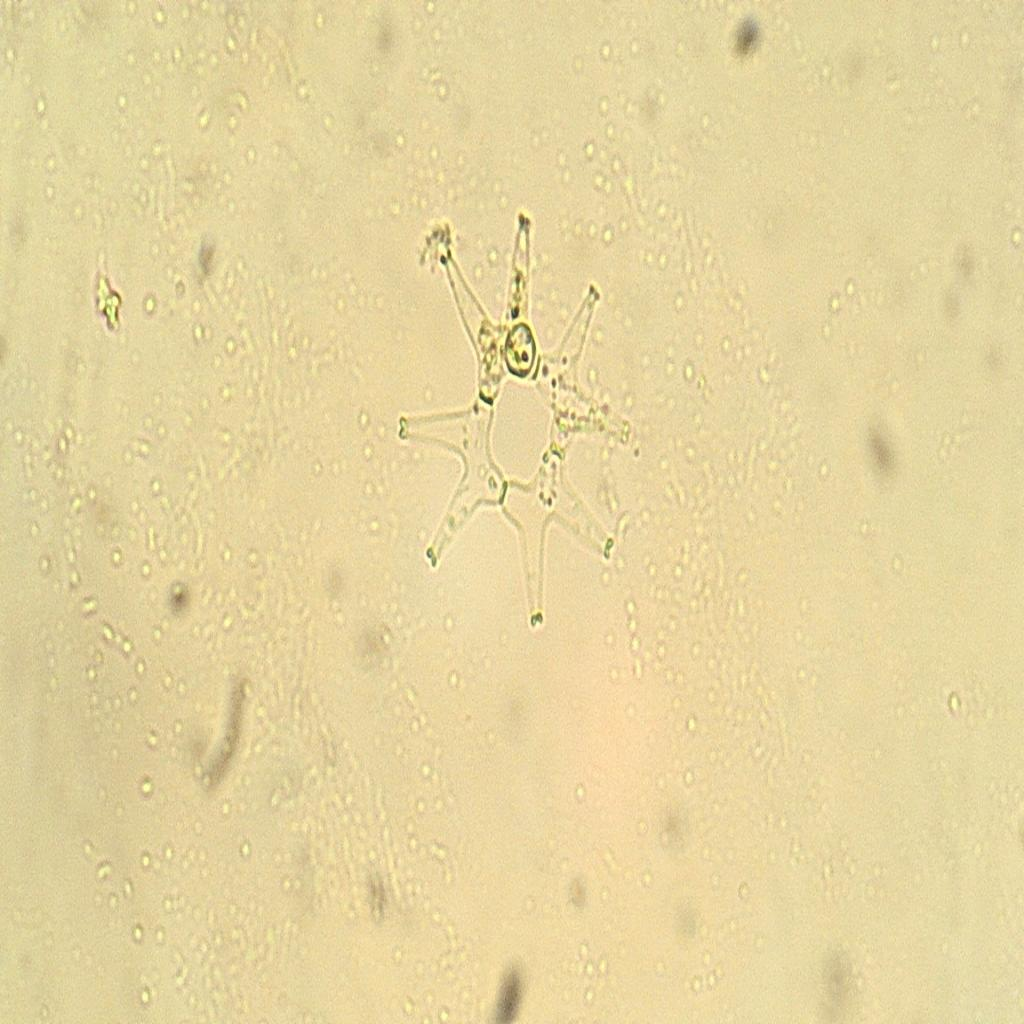Pediastrum_1F0: (373, 195, 665, 657)
